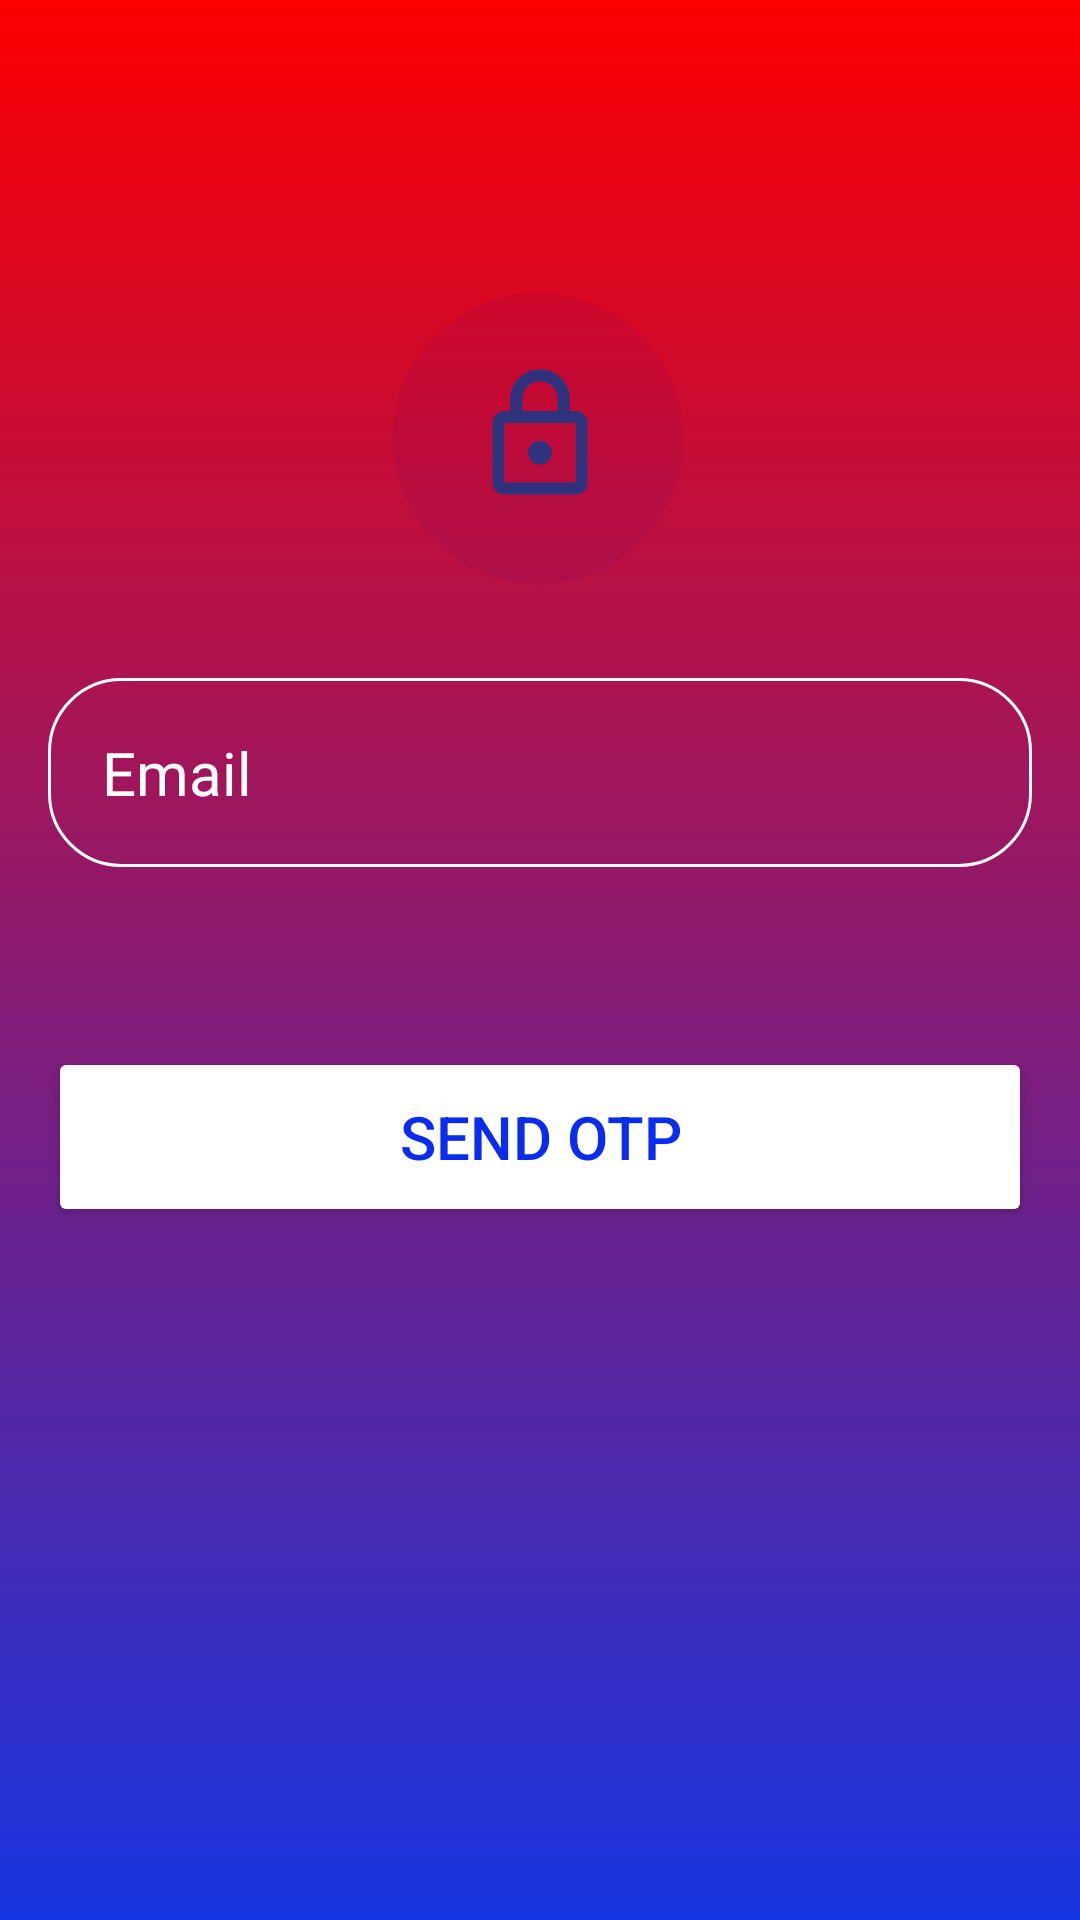

Where to tap for icons on this 1080px x 1920px app screen, as [x,y]:
change password: [540,438]
